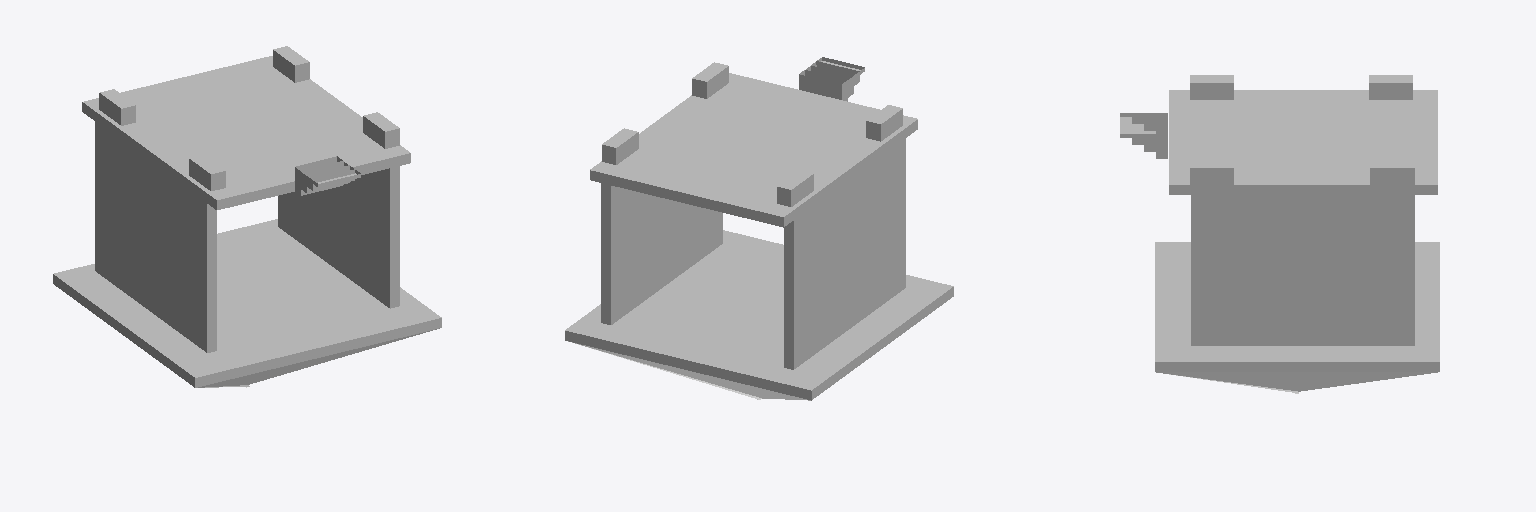
The model's file is the_hut.obj.
3 renders of one model, left to right at view 1: azimuth 30°, elevation 25°; view 2: azimuth 150°, elevation 25°; view 3: azimuth 270°, elevation 25°, orthographic.
Visible parts, largest first — view 1: Cube; view 2: Cube; view 3: Cube.
Part boxes in pixels (bbox=[...]): Cube: bbox=[53, 46, 441, 387]; Cube: bbox=[565, 57, 953, 400]; Cube: bbox=[1120, 75, 1439, 393].
Size of the model in its own units: 2.54 by 2.69 by 2.85.